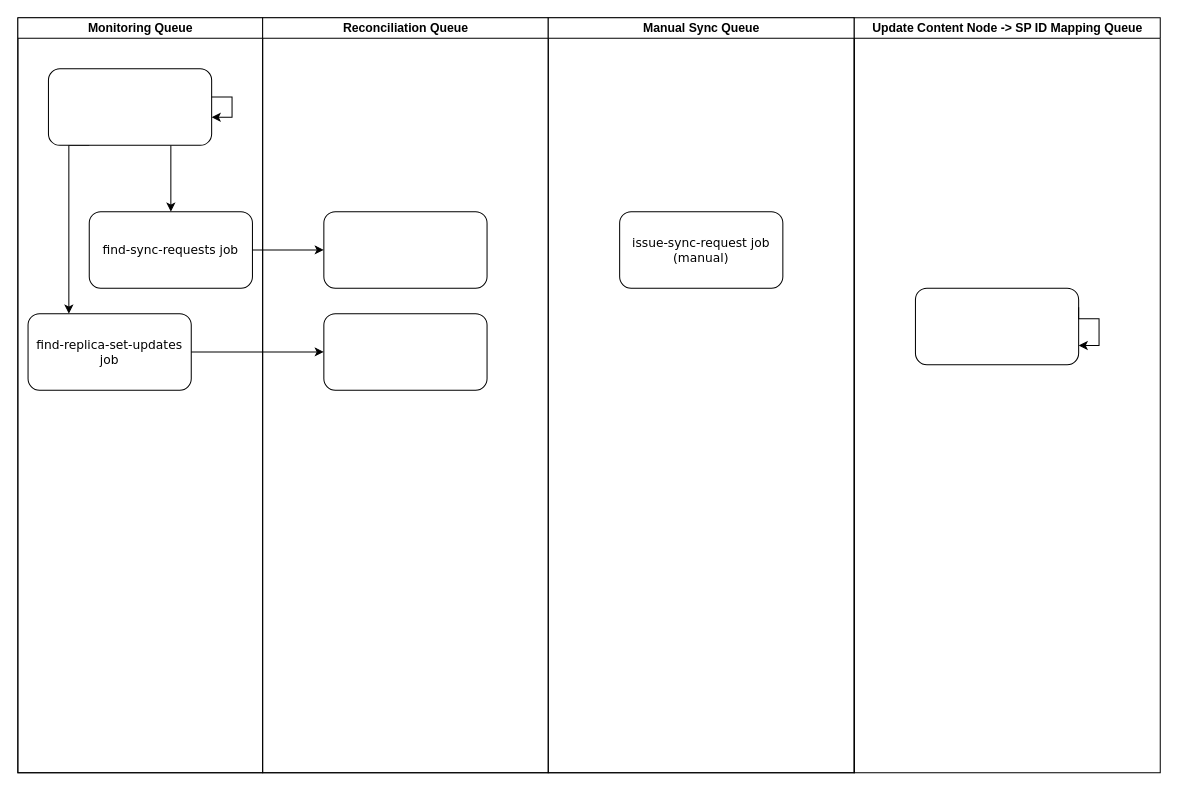
Image size: 1178x791. Some labels were removed from this diagram. The shapes that lost their labels are listed below. From the top down, each one's centre as x and y in pixels, then its label:
the point at 129,106: monitor-state job
the point at 405,249: issue-sync-request job (recurring)
the point at 996,326: fetch-c-node-to-sp-id-mapping job
the point at 405,351: update-replica-set job
